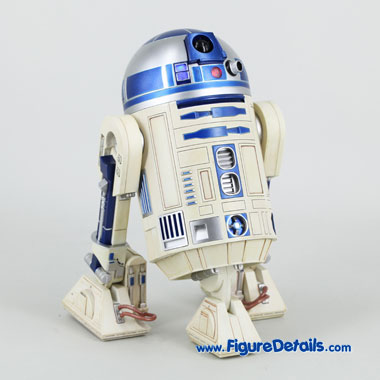r2d2: (62, 28, 288, 359)
